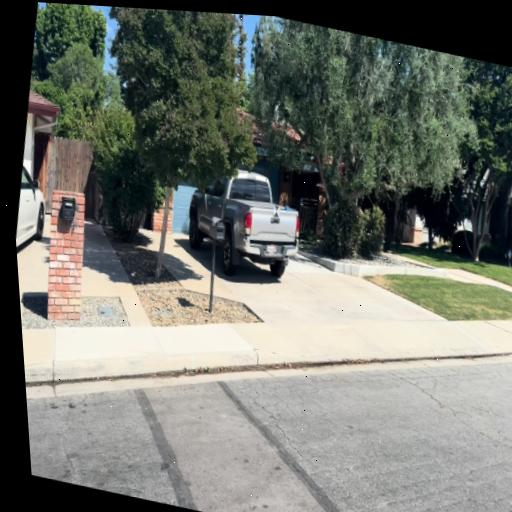target1: (272, 204, 280, 218)
